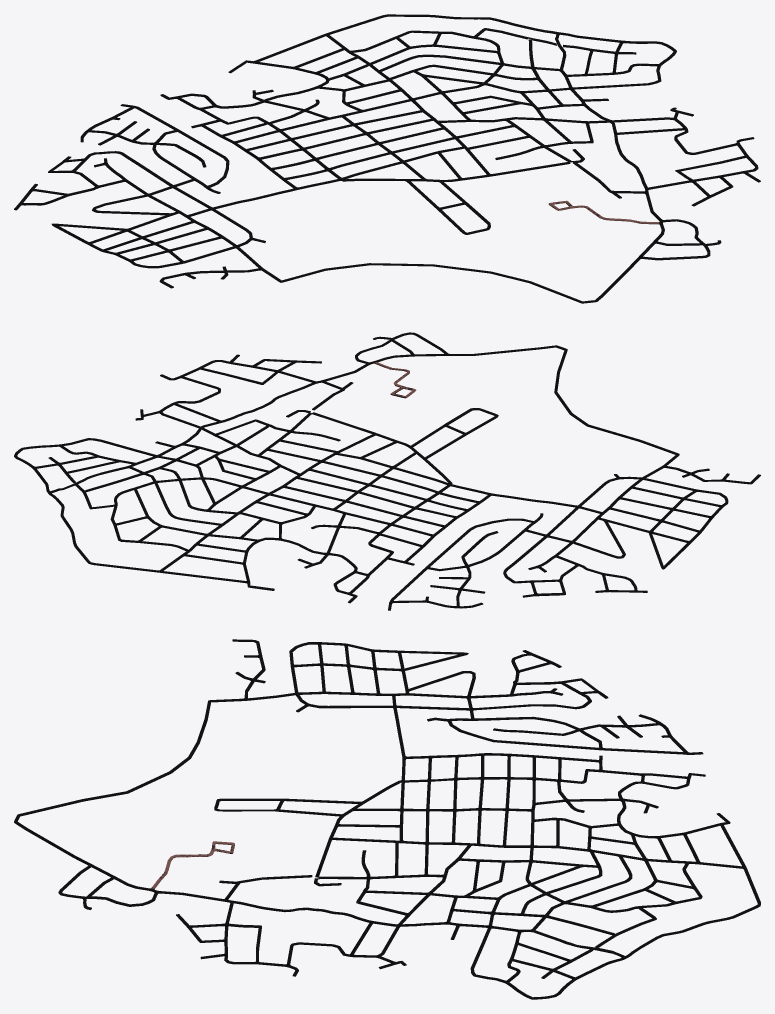
File: intstreets.glb
3 views of the same model, one above another, from view 1: azimuth 30°, elevation 25°; view 2: azimuth 150°, elevation 25°; view 3: azimuth 270°, elevation 25° (orthographic). The views are drawn at different scales.
Visible parts, largest first — view 1: Vert.003; view 2: Vert.003; view 3: Vert.003.
Boxes of the visible parts, <box> form: Vert.003: <box>14,14,760,303</box>; Vert.003: <box>14,332,760,610</box>; Vert.003: <box>14,639,760,999</box>.
Bounding box in the file's own units: 3.86 × 0.1455 × 3.56.
